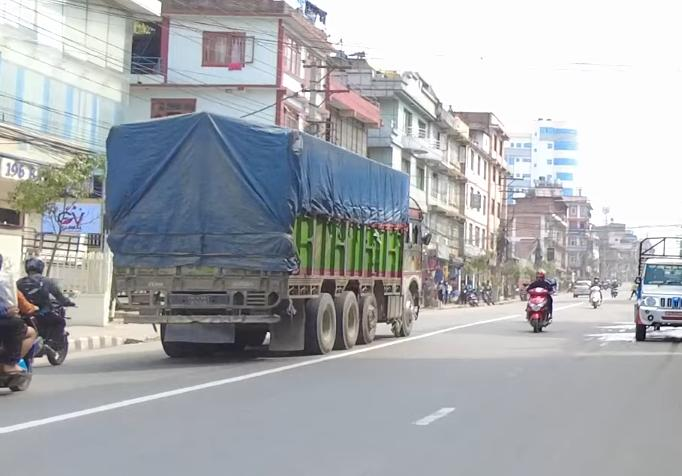bike: (16, 294, 74, 366)
scooter: (520, 279, 556, 336), (587, 283, 604, 310)
transport_vehicle: (627, 230, 681, 341)
truck: (103, 110, 428, 358)
